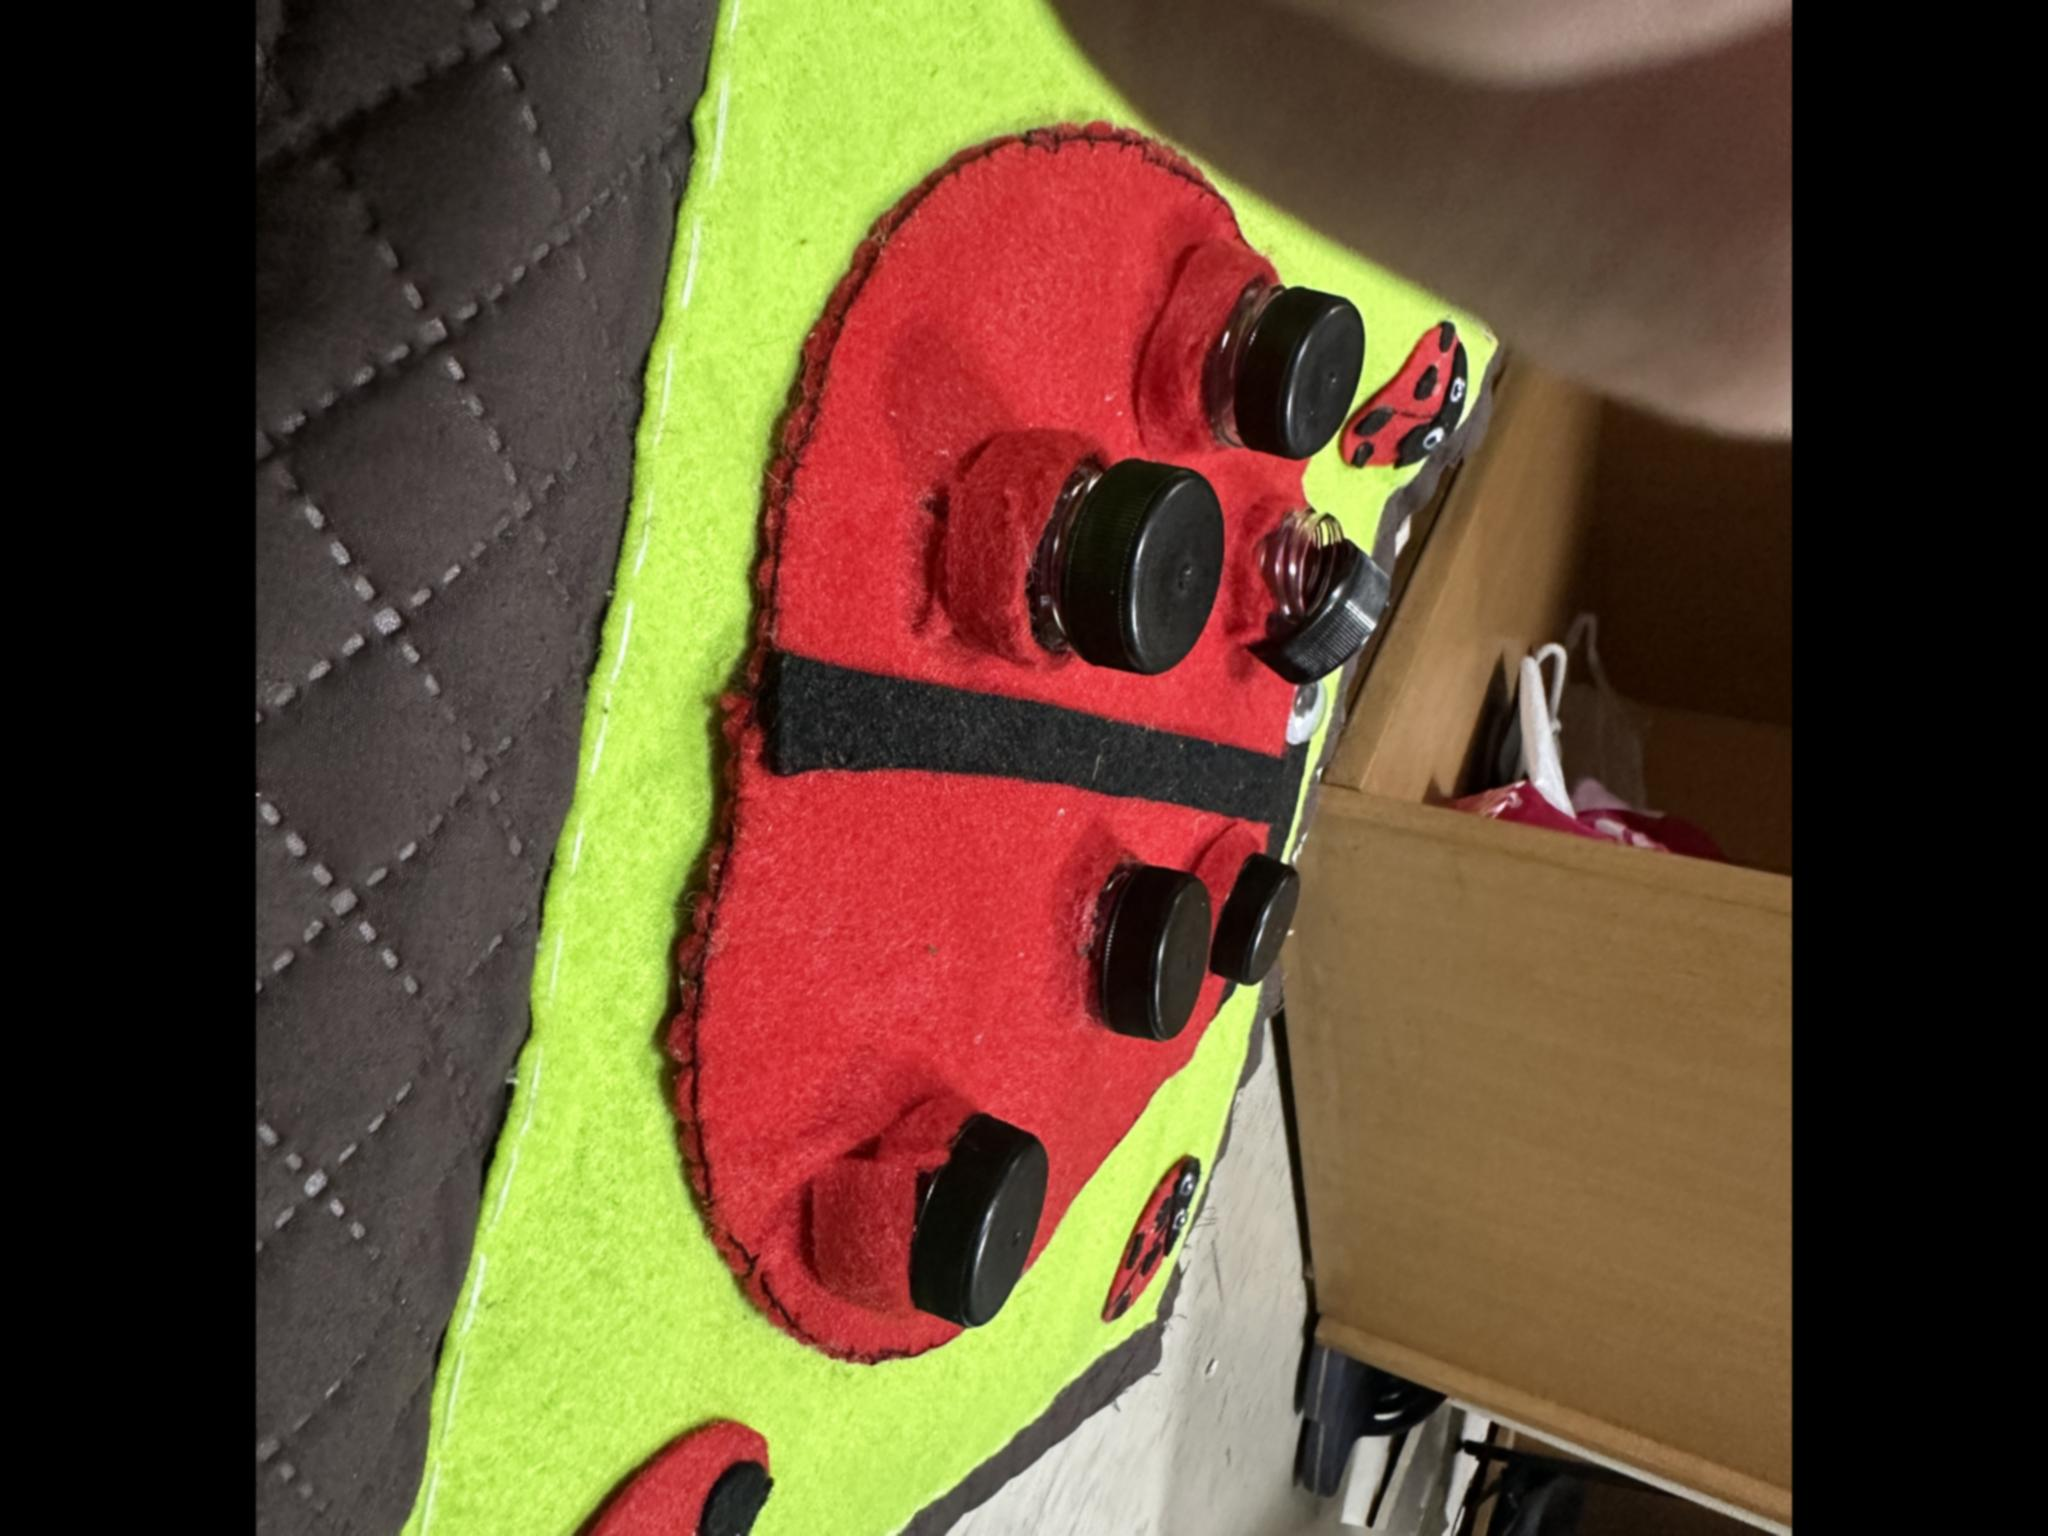cap_ng: (920, 450, 1240, 682), (1138, 270, 1362, 462), (1231, 504, 1415, 696)
cap_ok: (820, 1093, 1080, 1349), (1075, 852, 1225, 1058), (1178, 839, 1324, 997)
